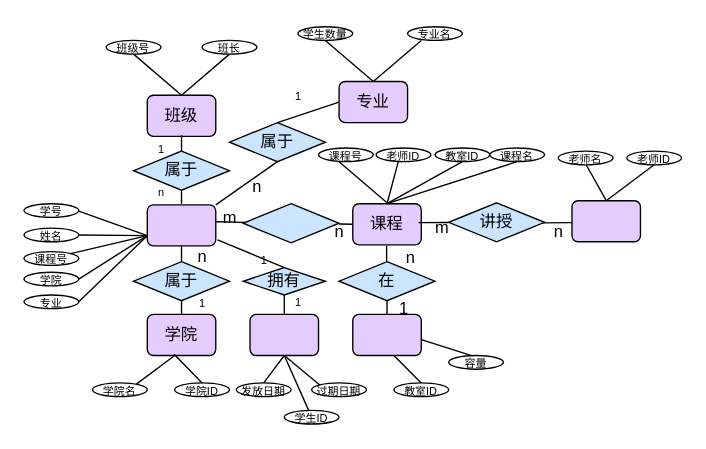
The diagram is 706 pixels wide and 449 high, and some of its shapes have lost their labels. Each missing label, with the box of its shape:
学生: (146, 203, 216, 246)
学生证: (249, 313, 319, 356)
教室: (351, 313, 421, 356)
老师: (571, 199, 640, 242)
选修: (242, 202, 339, 243)
